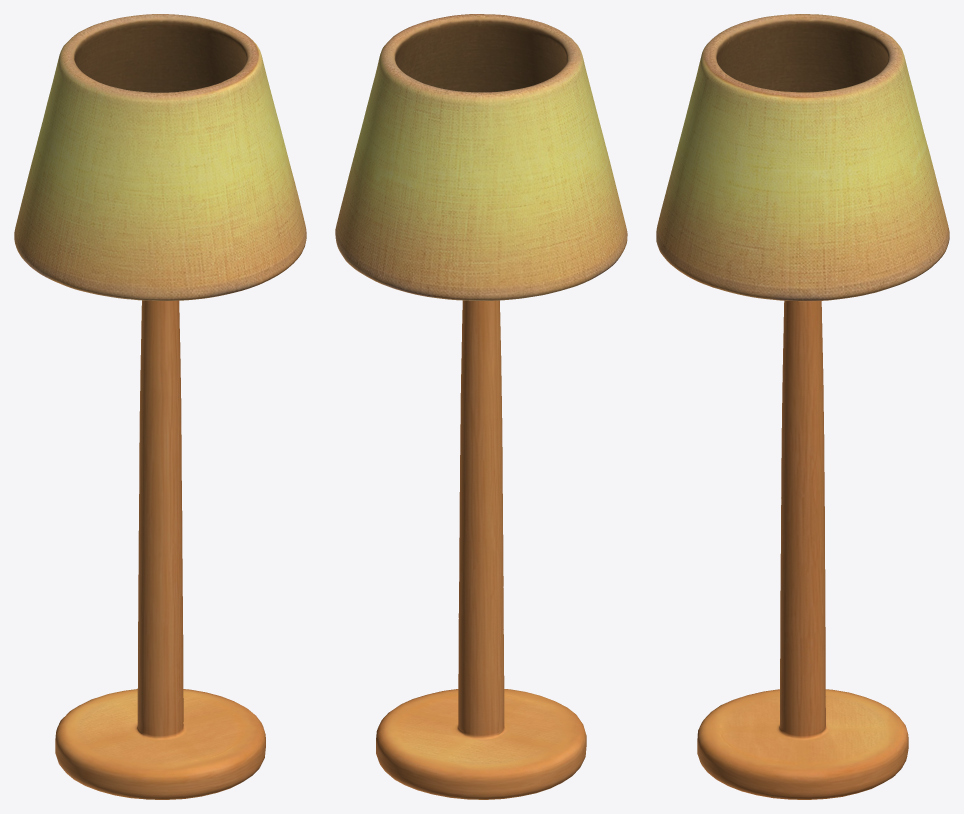
3 renders of one model, left to right at view 1: azimuth 30°, elevation 25°; view 2: azimuth 150°, elevation 25°; view 3: azimuth 270°, elevation 25°, orthographic.
Parts seen in each view (by area): view 1: tripo_node_235f6b46; view 2: tripo_node_235f6b46; view 3: tripo_node_235f6b46.
Boxes of the visible parts, <box> form: tripo_node_235f6b46: <box>14,14,306,799</box>; tripo_node_235f6b46: <box>335,14,627,799</box>; tripo_node_235f6b46: <box>656,14,949,799</box>.
Bounding box in the file's own units: 37.39 × 99.99 × 37.39.
Materials: 1 (1 with a texture image).
